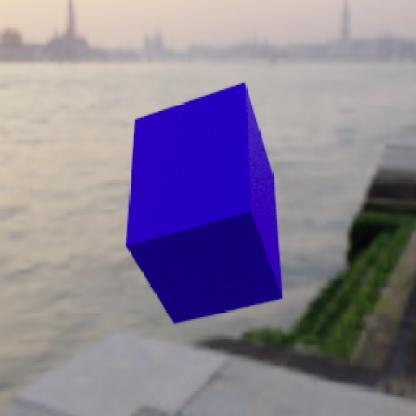blue_cube: (124, 80, 284, 324)
